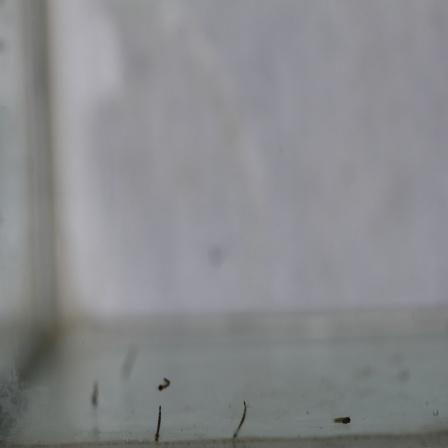Jentik-Nyamuk: (230, 397, 251, 443), (151, 402, 166, 447), (153, 376, 176, 393), (329, 413, 352, 429)
